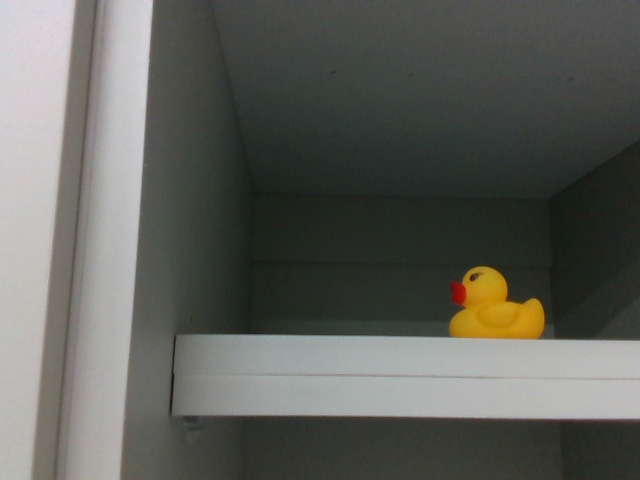duck: (445, 263, 551, 336)
